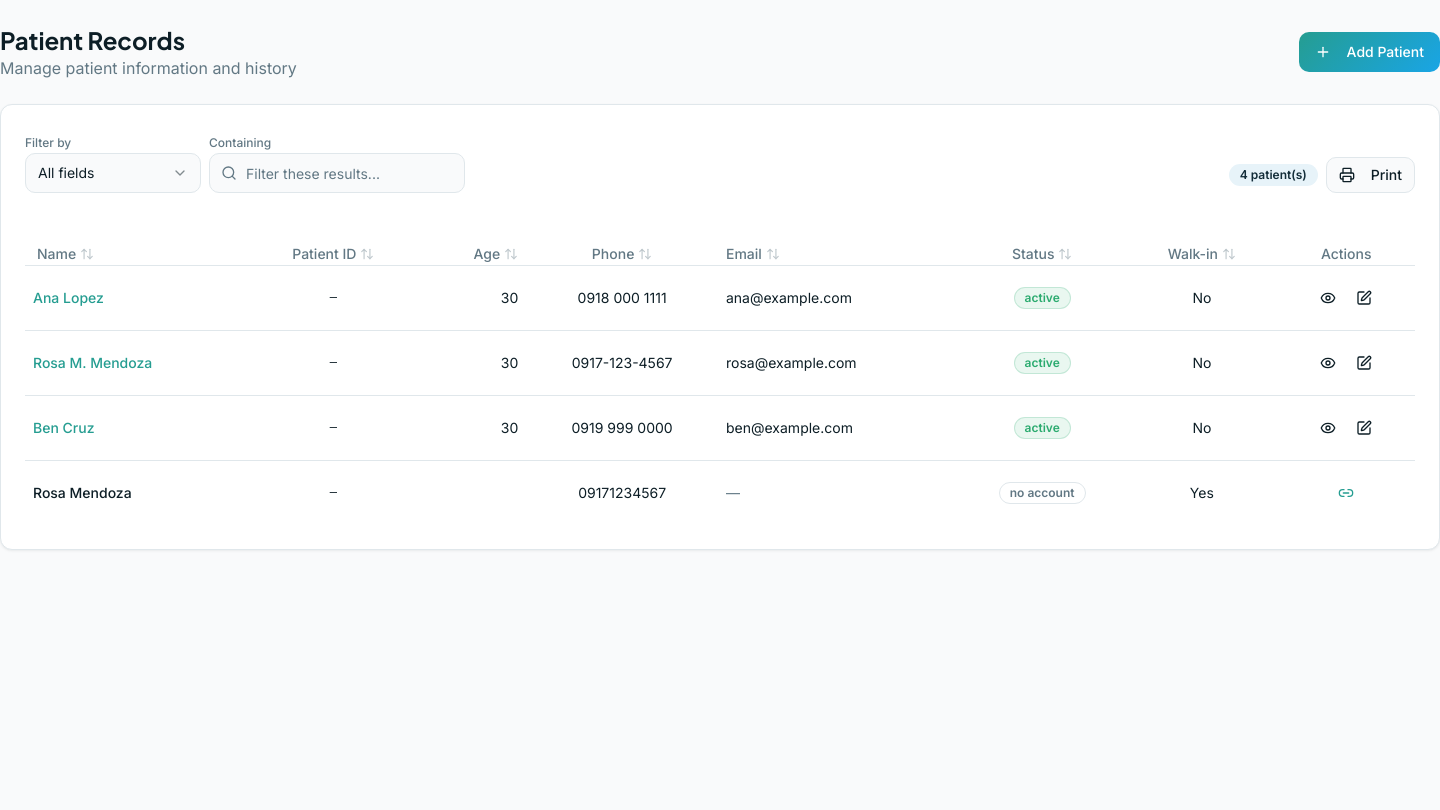
Test: linking a guest to the account they made › puts the account with the same contact number first, marked Suggested
Click the button named "Link Rosa Mendoza (09171234567) to an account".
click(1346, 492)  # box x1=1330 y1=476 x2=1362 y2=508
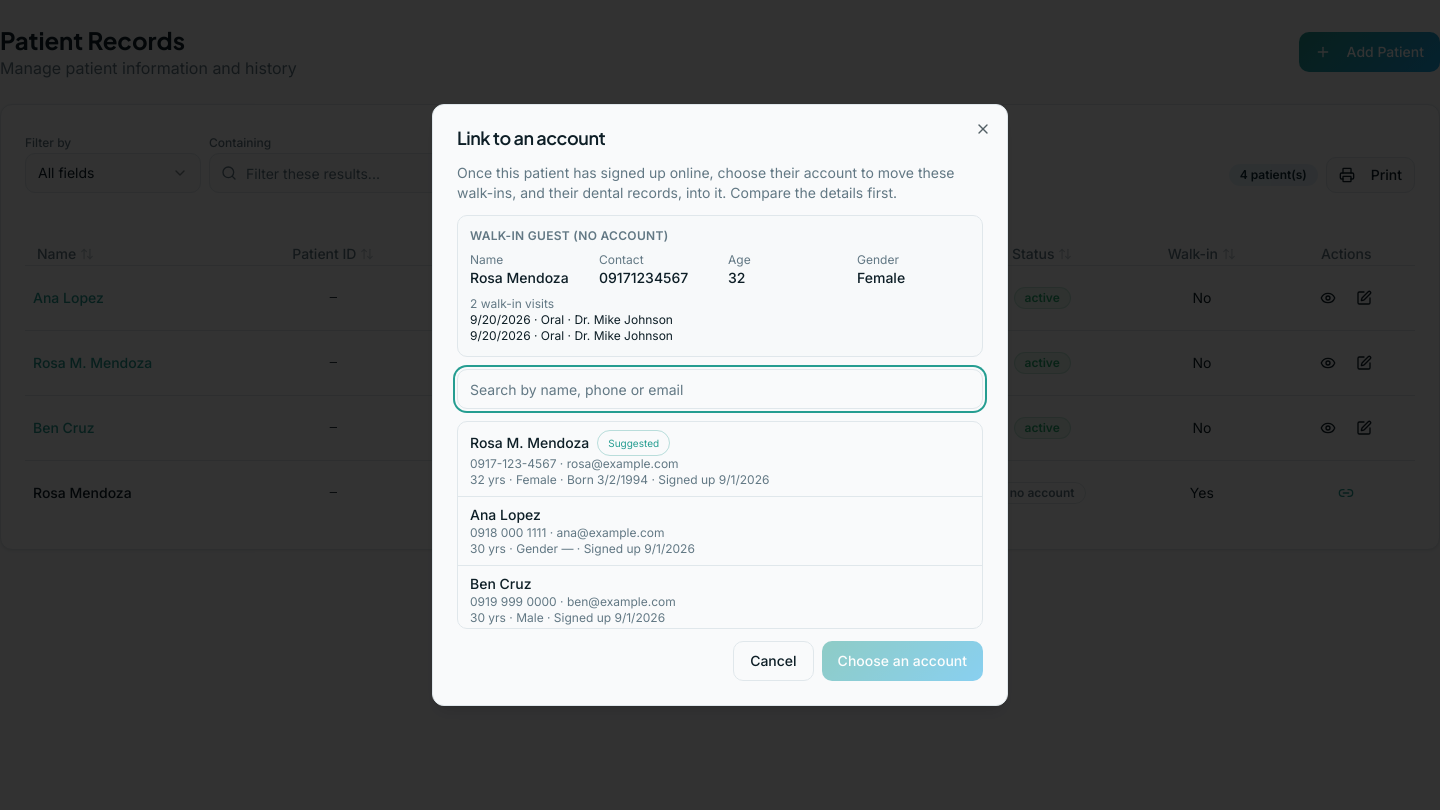
Expected: the text "2 walk-in visits" is shown, x1=470 y1=296 x2=554 y2=311
Expected: the option that starts with "Rosa M. Mendoza" is shown, x1=458 y1=422 x2=982 y2=496
Expected: the text "Suggested" is shown, x1=597 y1=430 x2=670 y2=456
